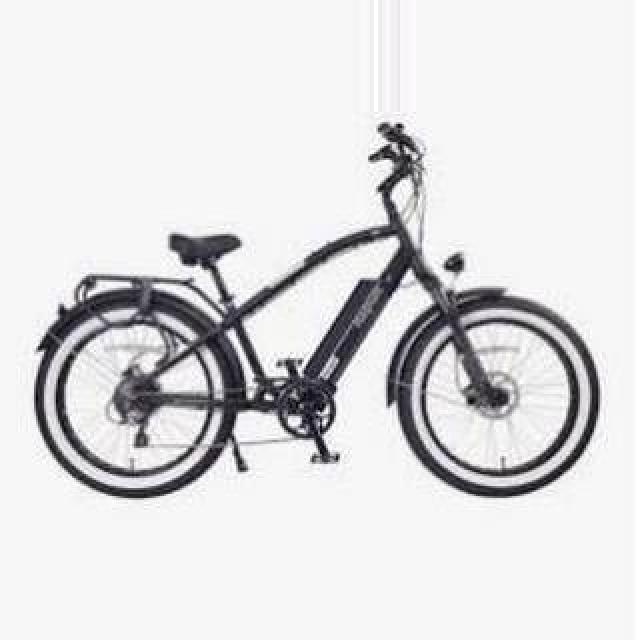Person: (31, 120, 603, 500)
